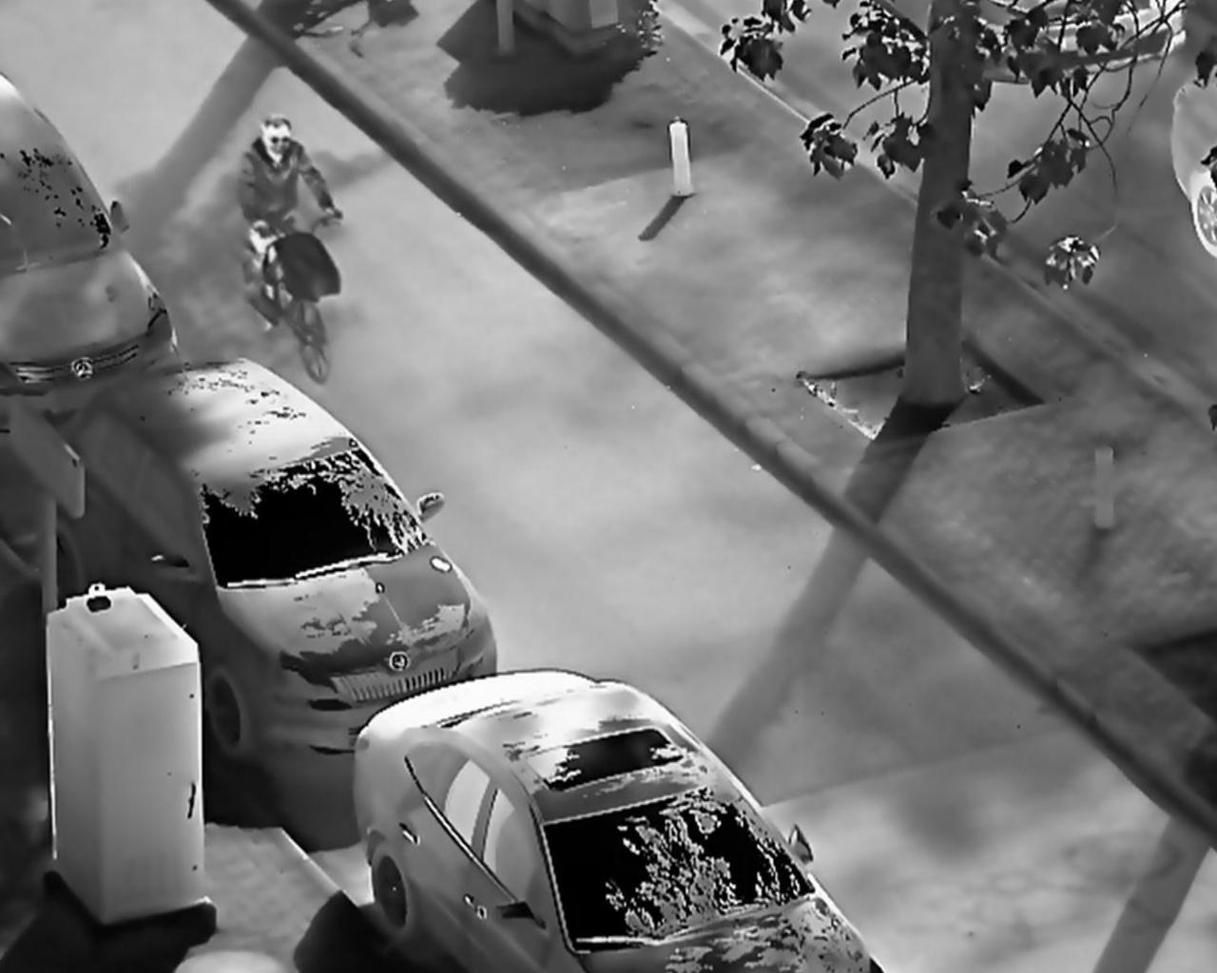person: (233, 114, 347, 271)
